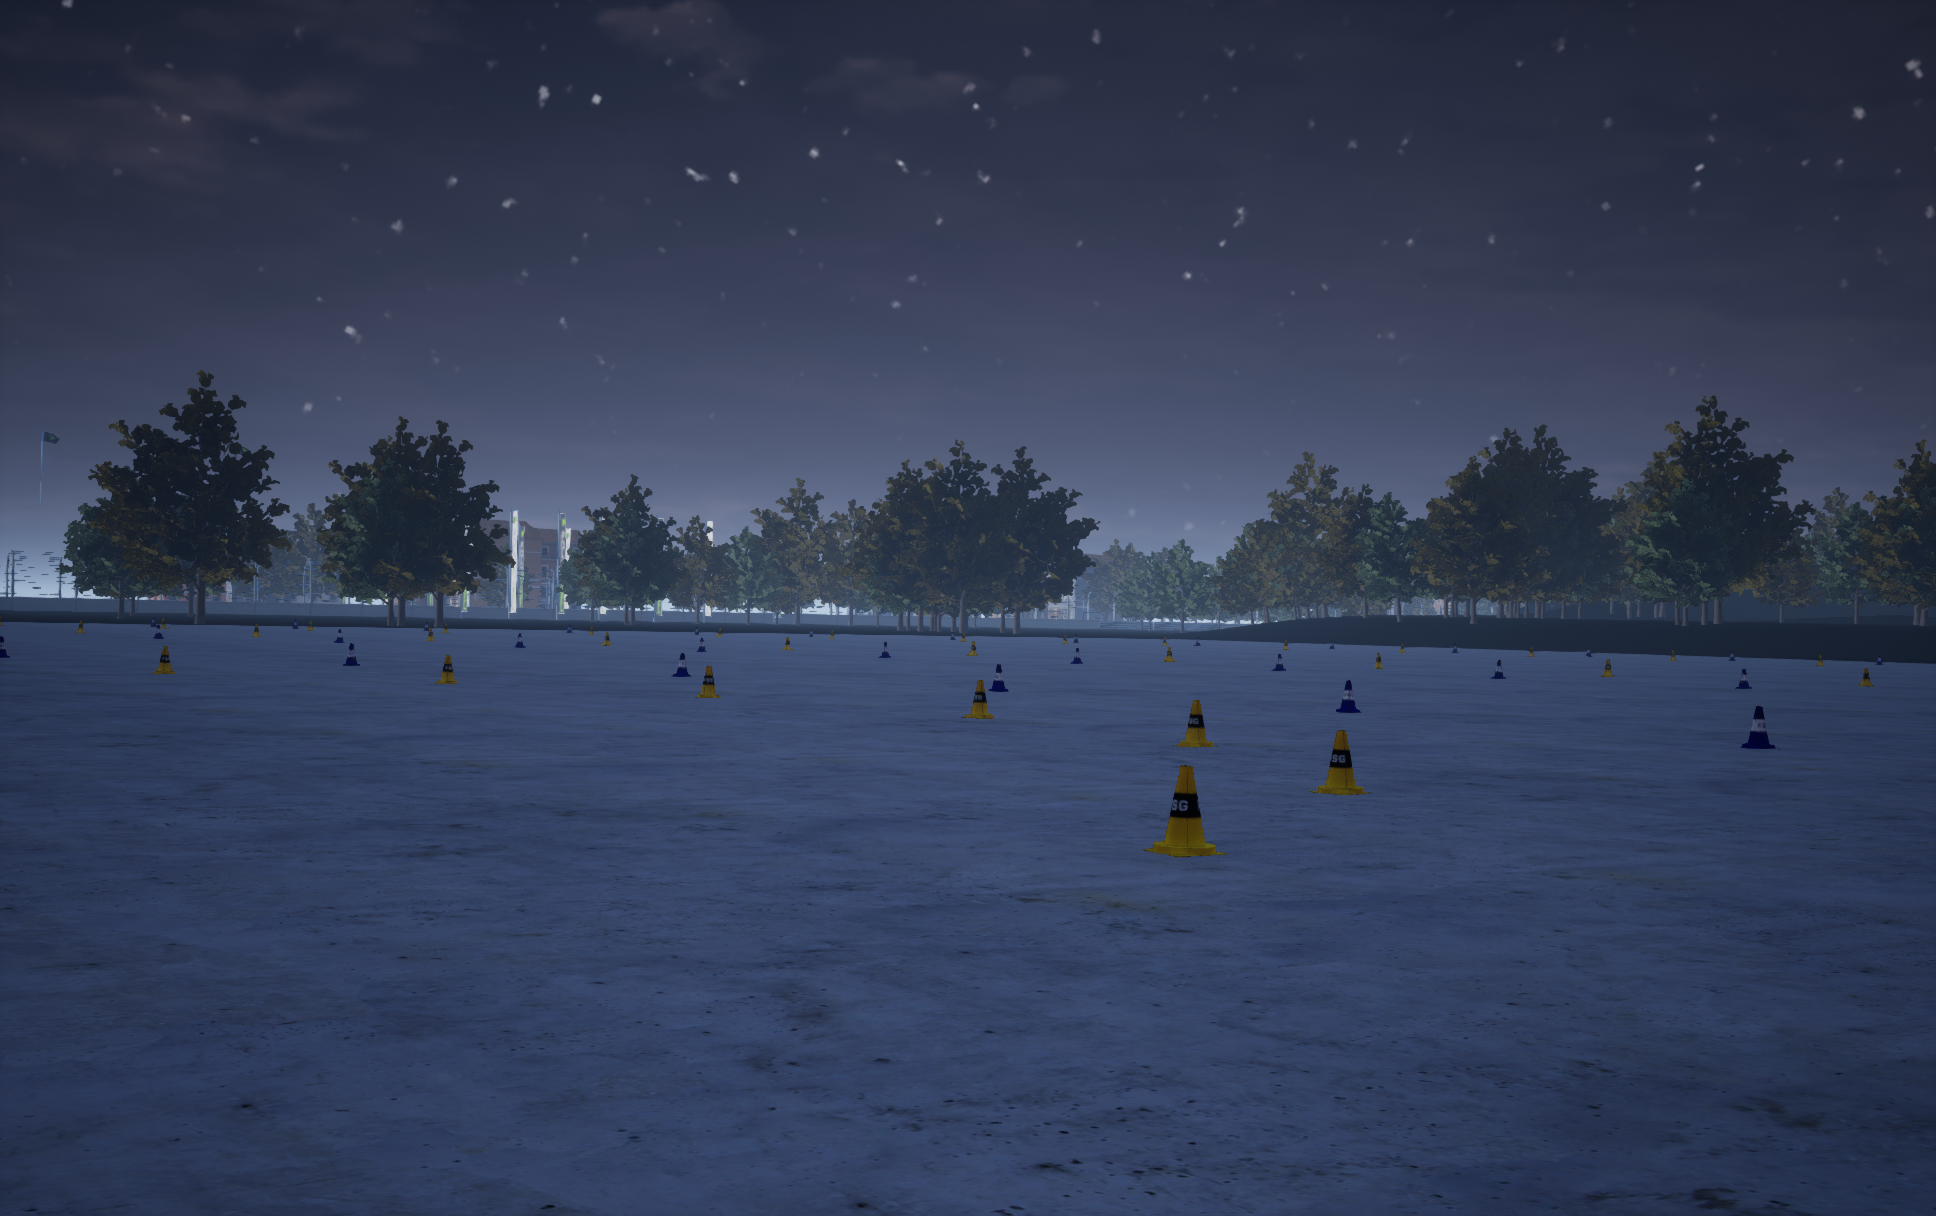blue: (1142, 765, 1227, 856), (1308, 730, 1370, 794), (1173, 700, 1217, 747), (961, 679, 993, 719), (695, 665, 721, 698), (436, 656, 458, 684), (151, 646, 174, 672)
yellow: (1740, 706, 1779, 749), (1336, 679, 1362, 712), (988, 664, 1009, 691), (671, 653, 691, 677), (343, 643, 359, 665), (1736, 670, 1751, 688), (1491, 660, 1505, 678)
